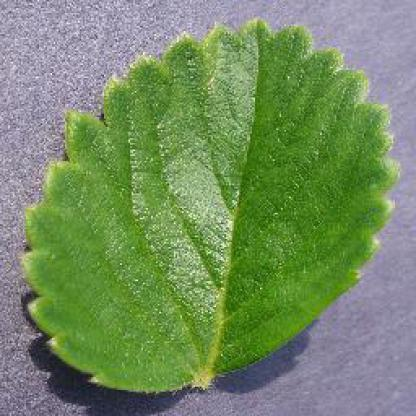healthy: (16, 11, 405, 396)
